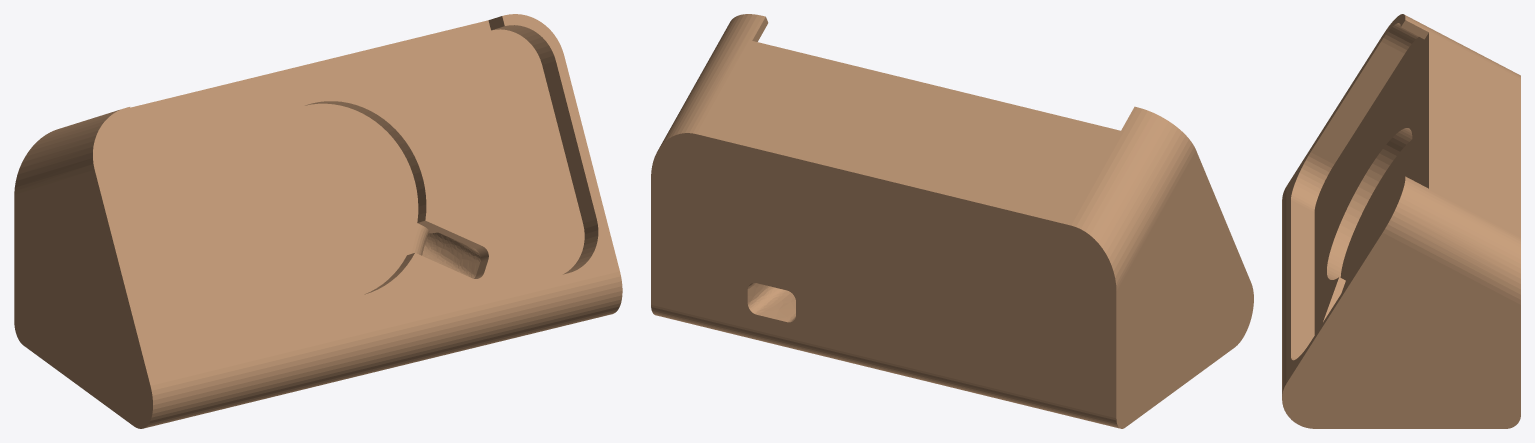
3 views of the same model, side by side, from view 1: azimuth 30°, elevation 25°; view 2: azimuth 150°, elevation 25°; view 3: azimuth 270°, elevation 25° (orthographic). The views are drawn at different scales.
Parts seen in each view (by area): view 1: Base:1; view 2: Base:1; view 3: Base:1.
Boxes of the visible parts, x1=… form: Base:1: x1=14, y1=14, x2=622, y2=428; Base:1: x1=651, y1=14, x2=1253, y2=428; Base:1: x1=1282, y1=14, x2=1520, y2=428.
Bounding box in the file's own units: 0.154 × 0.0844 × 0.0788.
